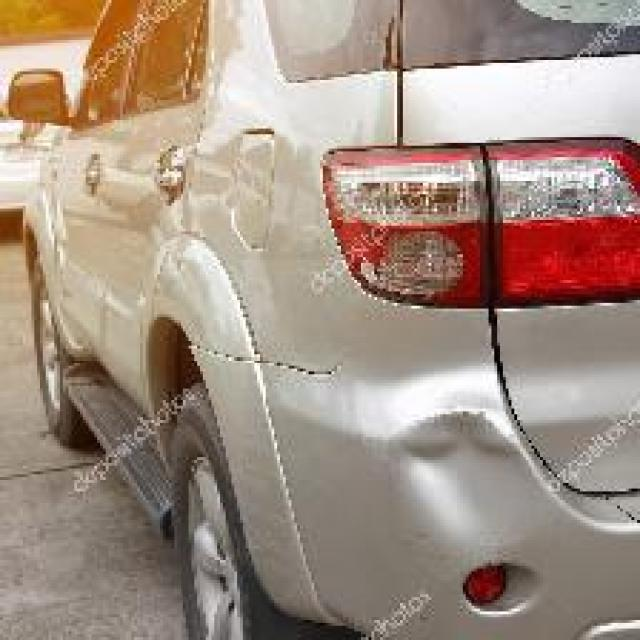bumper_dent_minor: (369, 411, 517, 529)
